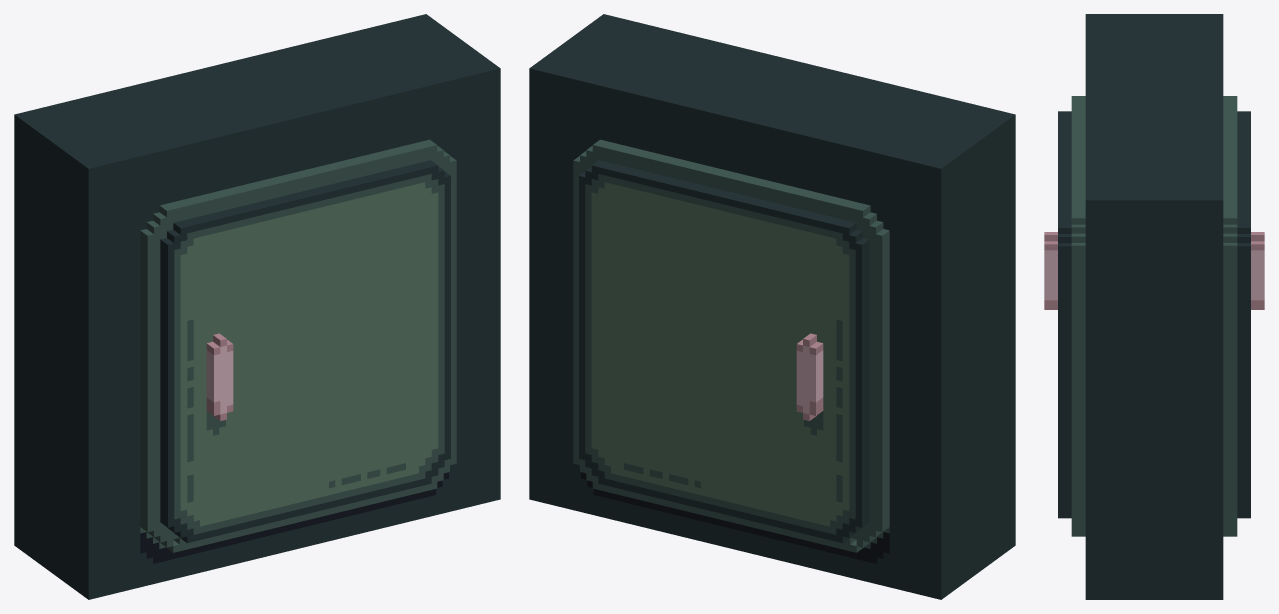
Rendered from dolap_alt_kisim_versiyon_iki.fbx.
The picture shows the model from 3 angles, left to right: view 1: azimuth 30°, elevation 25°; view 2: azimuth 150°, elevation 25°; view 3: azimuth 270°, elevation 25°; orthographic projection. The views are drawn at different scales.
Parts seen in each view (by area): view 1: generated; view 2: generated; view 3: generated.
Part boxes in pixels (x1,y1,x2,y2): generated: [14, 14, 500, 599]; generated: [529, 14, 1015, 599]; generated: [1044, 14, 1264, 599].
Size of the model in its own units: 640 by 640 by 320.
